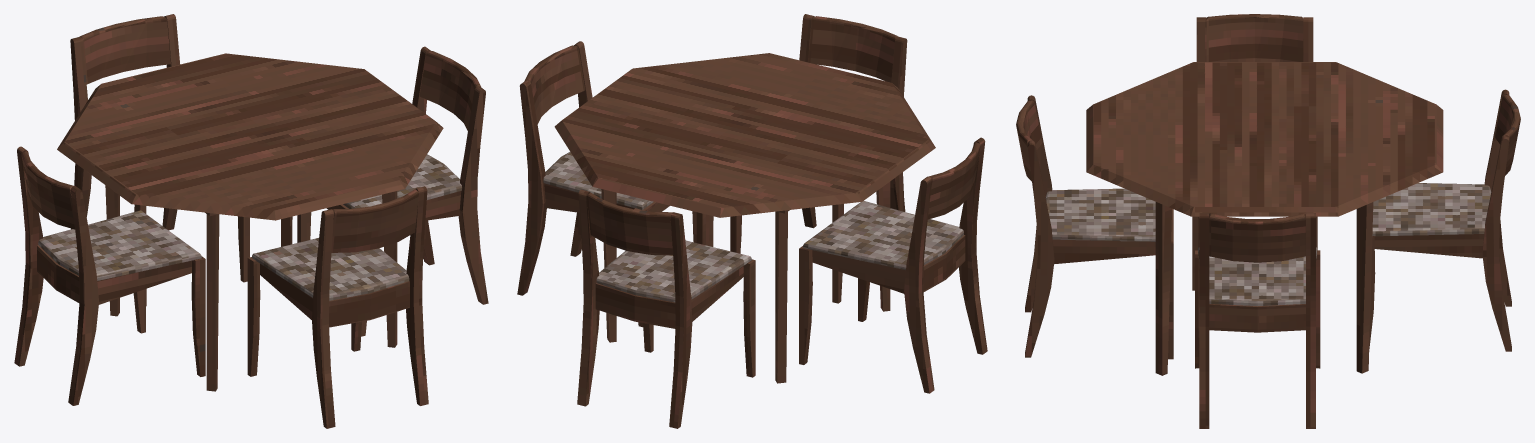
The model's file is dining_set_.fbx.
The picture shows the model from 3 angles, left to right: view 1: azimuth 30°, elevation 25°; view 2: azimuth 150°, elevation 25°; view 3: azimuth 270°, elevation 25°; orthographic projection.
Visible parts, largest first — view 1: 125; view 2: 125; view 3: 125.
Part boxes in pixels (box(x1,y1,x2,y2)): 125: box(14, 14, 488, 428); 125: box(517, 14, 987, 428); 125: box(1016, 14, 1520, 428).
Size of the model in its own units: 238 by 113 by 243.
